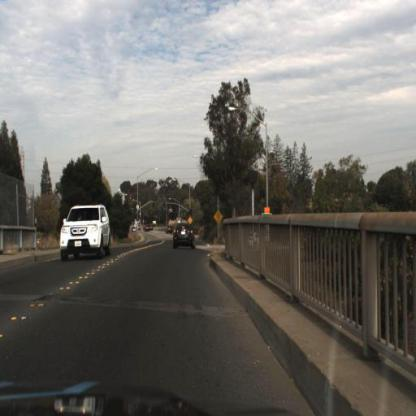car: (54, 196, 116, 265), (57, 201, 112, 256), (172, 220, 198, 253)
